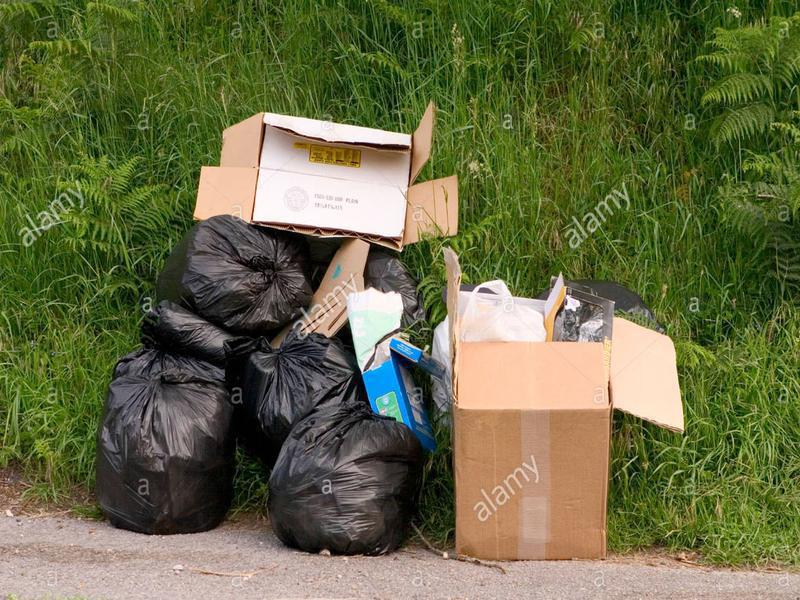cardboard: (439, 246, 687, 567), (184, 157, 467, 255), (343, 274, 448, 440), (212, 101, 438, 174)
plastic: (266, 409, 424, 557), (98, 379, 240, 537), (156, 216, 314, 331), (240, 327, 363, 448), (106, 304, 246, 382), (461, 278, 550, 342)
